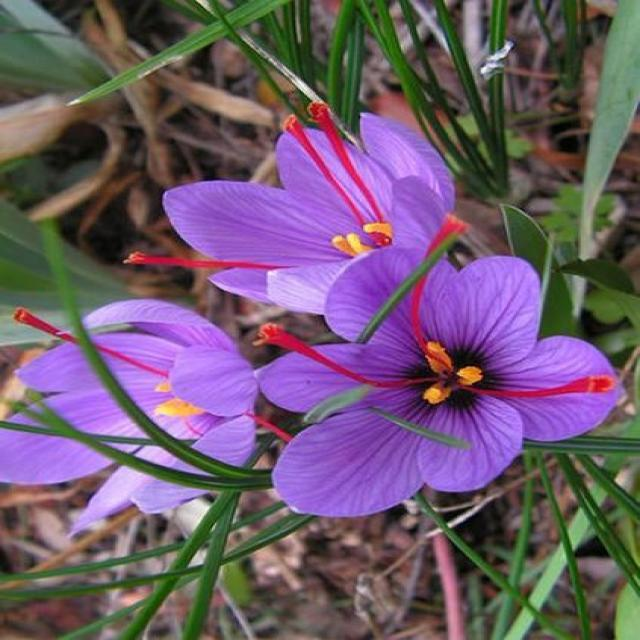Flower: (259, 254, 616, 514), (0, 300, 254, 521), (165, 114, 448, 310)
stigma: (256, 322, 441, 389), (8, 308, 170, 382), (276, 113, 372, 230), (303, 100, 389, 225), (407, 214, 475, 368), (458, 370, 617, 406), (123, 248, 299, 274)
